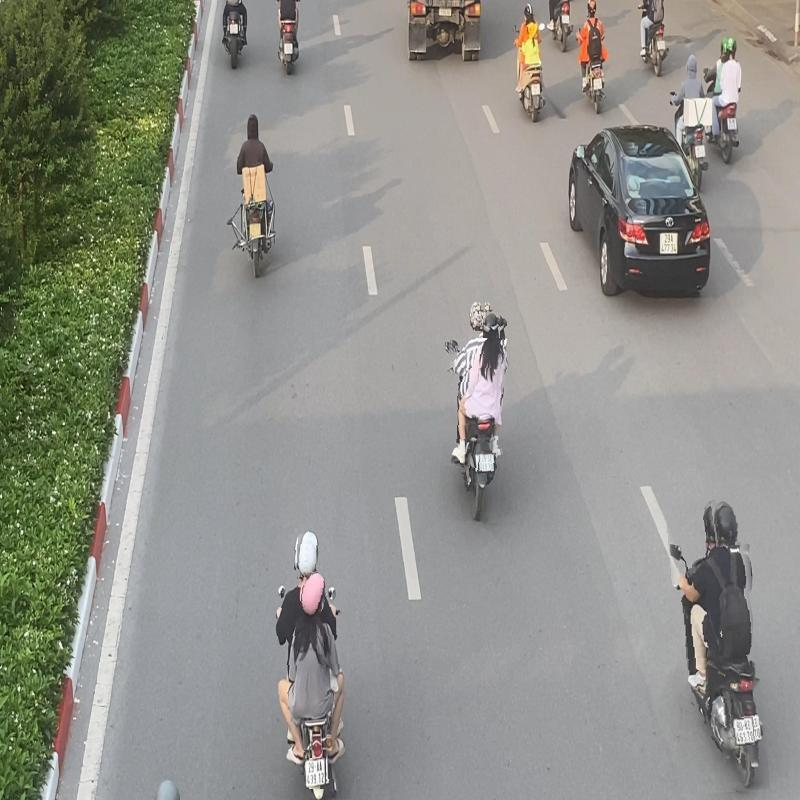helmet: (712, 500, 740, 547), (296, 530, 320, 578), (300, 572, 326, 616), (470, 301, 486, 331), (483, 312, 500, 338)
licenseplate: (304, 758, 326, 789), (734, 718, 755, 746), (478, 451, 496, 474)
motorcyclist: (672, 497, 764, 794), (270, 527, 349, 800), (440, 300, 510, 522)
